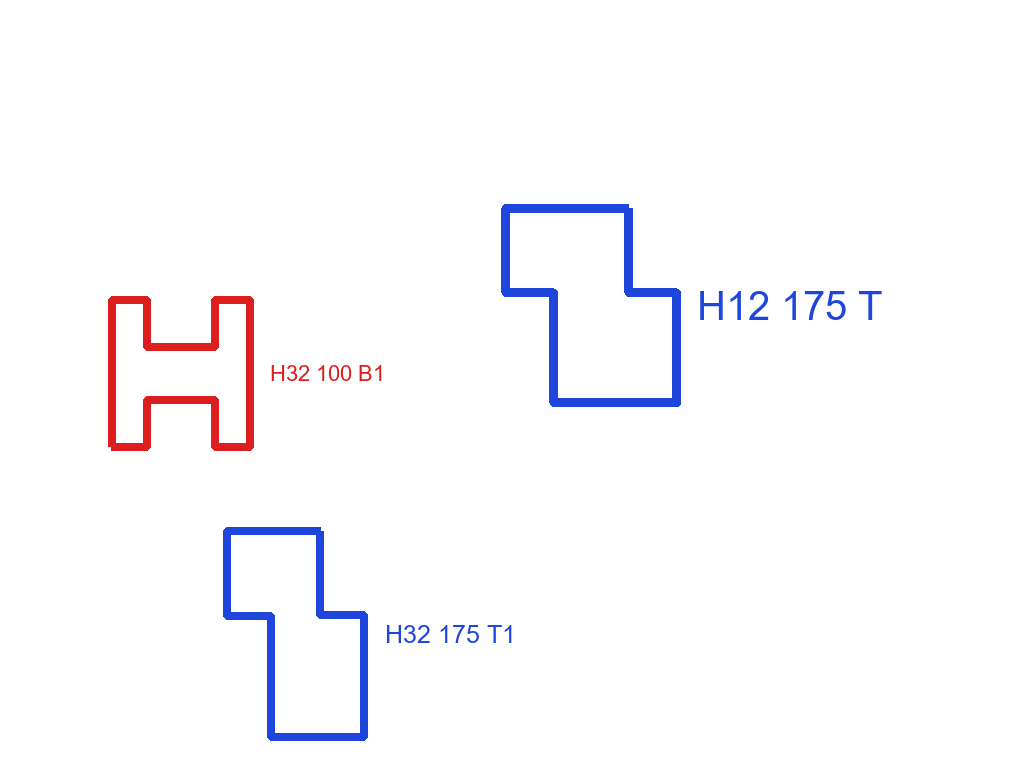shape: (499, 202, 683, 409), (220, 526, 371, 742), (105, 294, 256, 453)
text: (695, 289, 884, 322), (383, 623, 518, 645), (268, 363, 387, 383)
